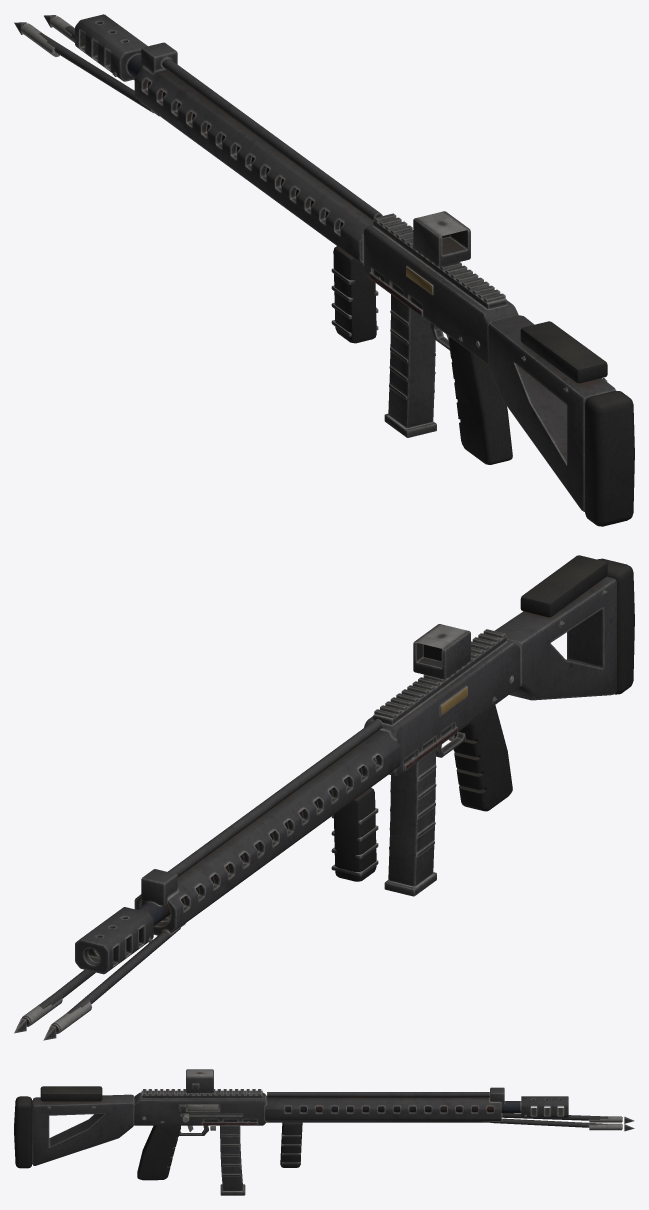
Rendered from explorer_heavy_round_rifle.glb.
The picture shows the model from 3 angles, top to bottom: view 1: azimuth 30°, elevation 25°; view 2: azimuth 150°, elevation 25°; view 3: azimuth 270°, elevation 25°; orthographic projection. The views are drawn at different scales.
Visible parts, largest first — view 1: explorer_heavy_round_rifle; view 2: explorer_heavy_round_rifle; view 3: explorer_heavy_round_rifle.
Part boxes in pixels (x1,y1,x2,y2): explorer_heavy_round_rifle: (14,14,634,526); explorer_heavy_round_rifle: (14,555,634,1040); explorer_heavy_round_rifle: (14,1069,634,1195).
Size of the model in its own units: 0.078 by 0.3055 by 1.45.
1 material, 1 textured.
